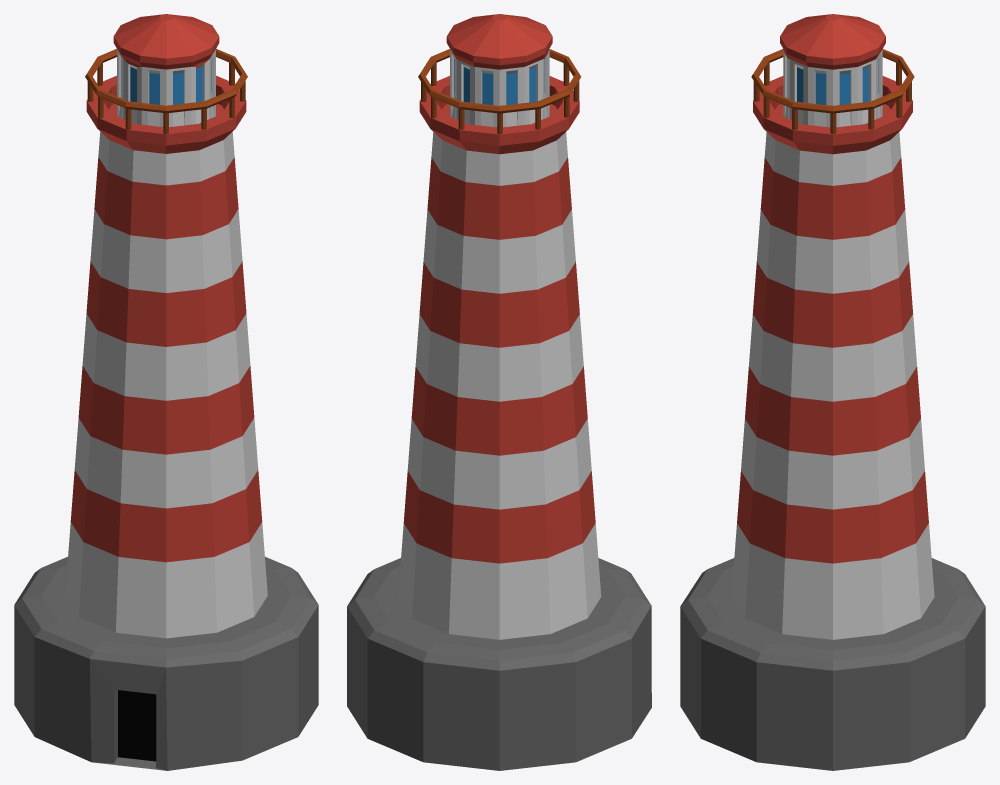
Rendered from farol.fbx.
The picture shows the model from 3 angles, left to right: view 1: azimuth 30°, elevation 25°; view 2: azimuth 150°, elevation 25°; view 3: azimuth 270°, elevation 25°; orthographic projection.
Visible parts, largest first — view 1: Cilindro; view 2: Cilindro; view 3: Cilindro.
Boxes of the visible parts, left/top/right/bottom form: Cilindro: left=14, top=14, right=318, bottom=770; Cilindro: left=347, top=14, right=651, bottom=770; Cilindro: left=680, top=14, right=985, bottom=770.
Bounding box in the file's own units: 200 × 499 × 200.
